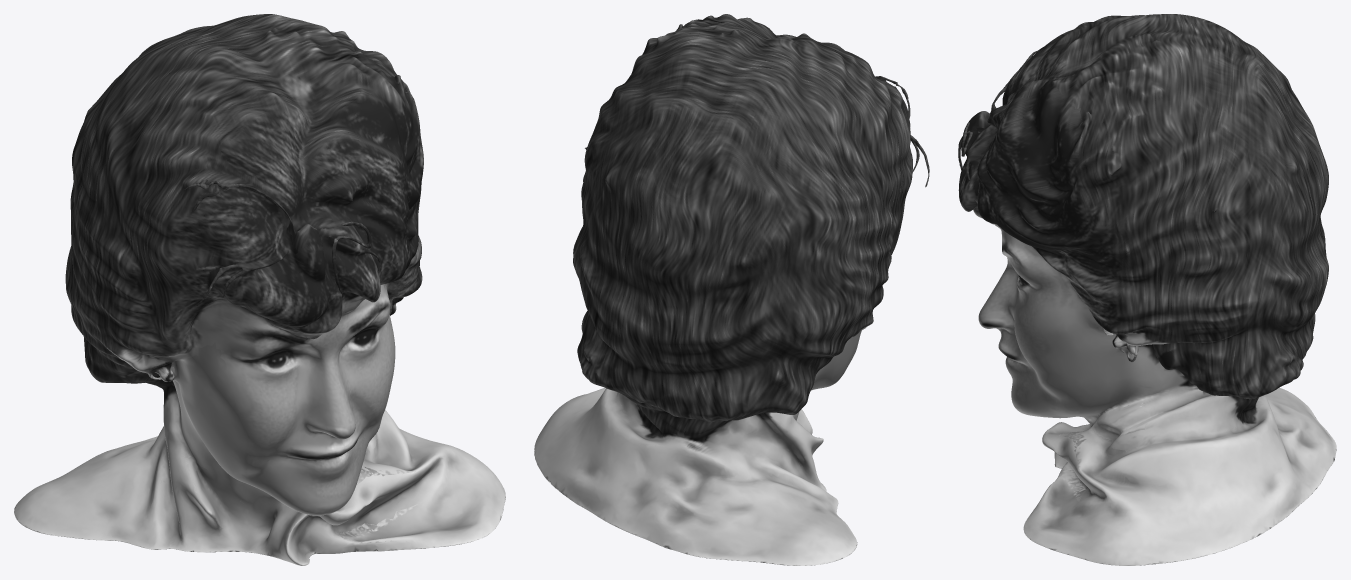
Rendered from face_3d_gray_22_even.glb.
3 views of the same model, side by side, from view 1: azimuth 30°, elevation 25°; view 2: azimuth 150°, elevation 25°; view 3: azimuth 270°, elevation 25° (orthographic). The views are drawn at different scales.
Parts seen in each view (by area): view 1: face_3d; view 2: face_3d; view 3: face_3d.
Boxes of the visible parts, <box> form: face_3d: <box>14,14,505,565</box>; face_3d: <box>534,14,929,565</box>; face_3d: <box>958,14,1336,565</box>.
Size of the model in its own units: 1.62 by 1.9 by 1.48.
1 material, 1 textured.
